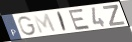4: (91, 6, 106, 28)
E: (68, 8, 92, 31)
G: (17, 15, 37, 36)
I: (57, 11, 68, 33)
M: (31, 12, 58, 35)
Z: (102, 4, 127, 27)
